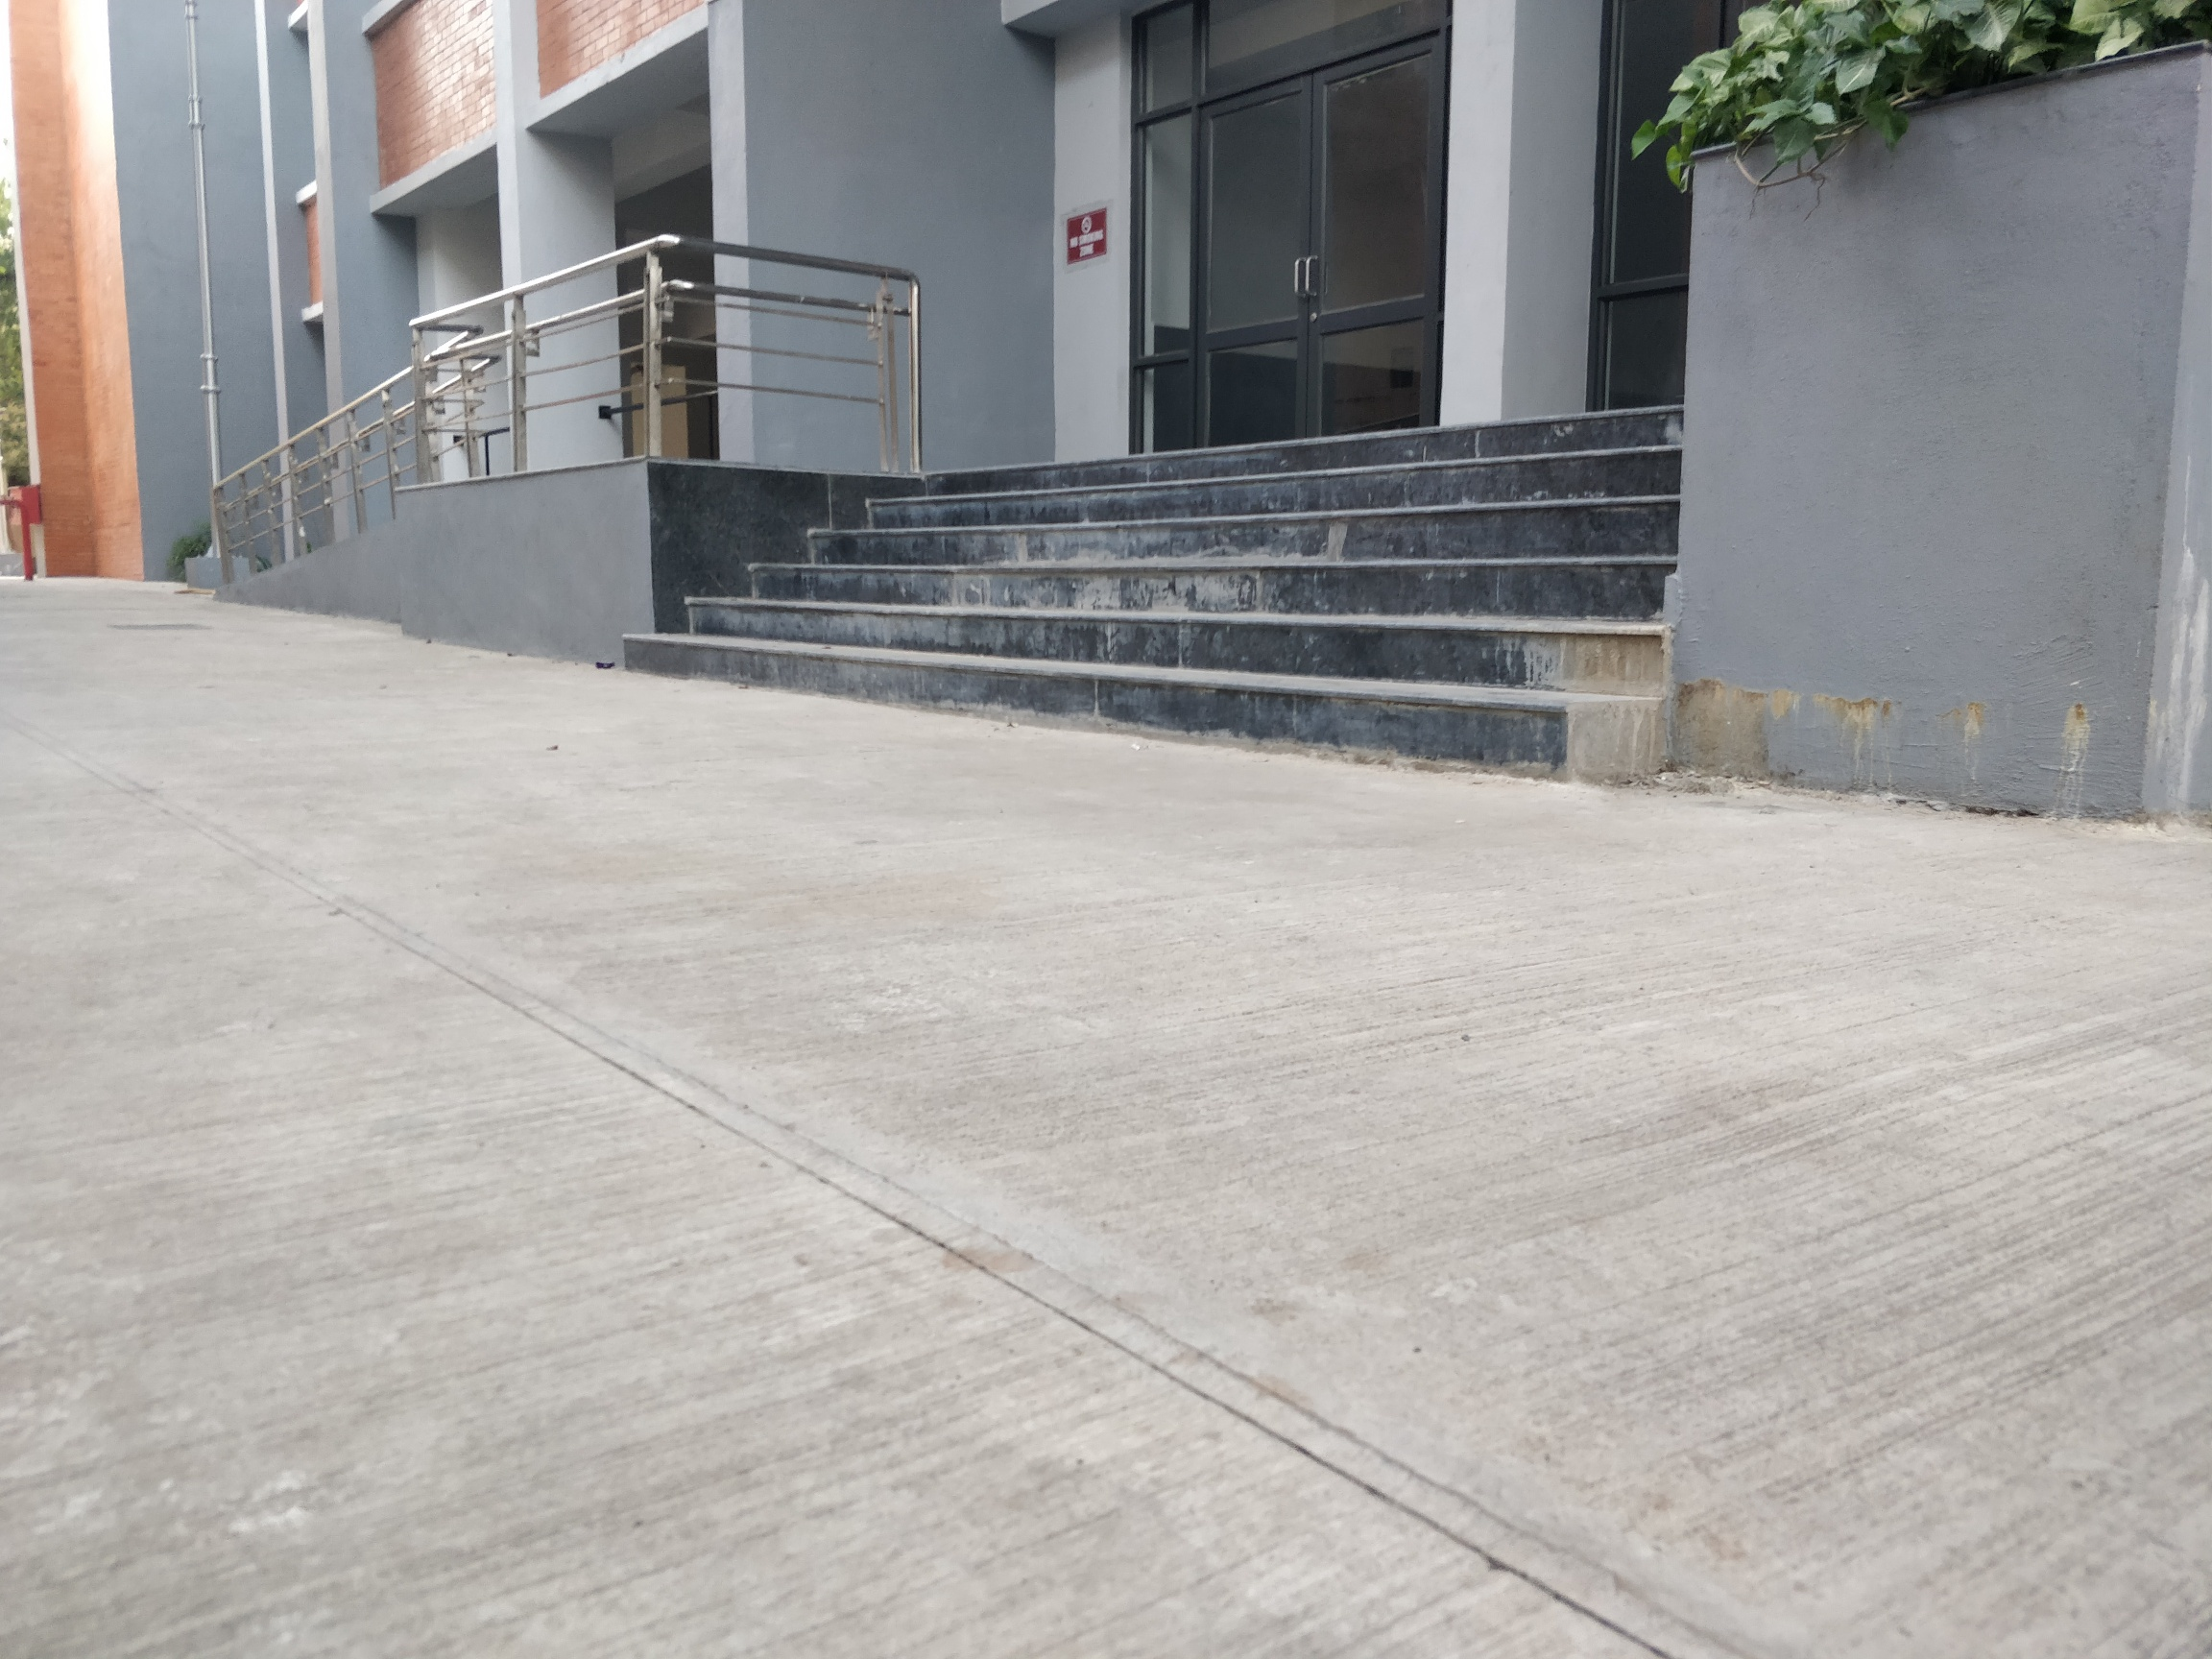stairs_up: (650, 394, 1684, 728)
